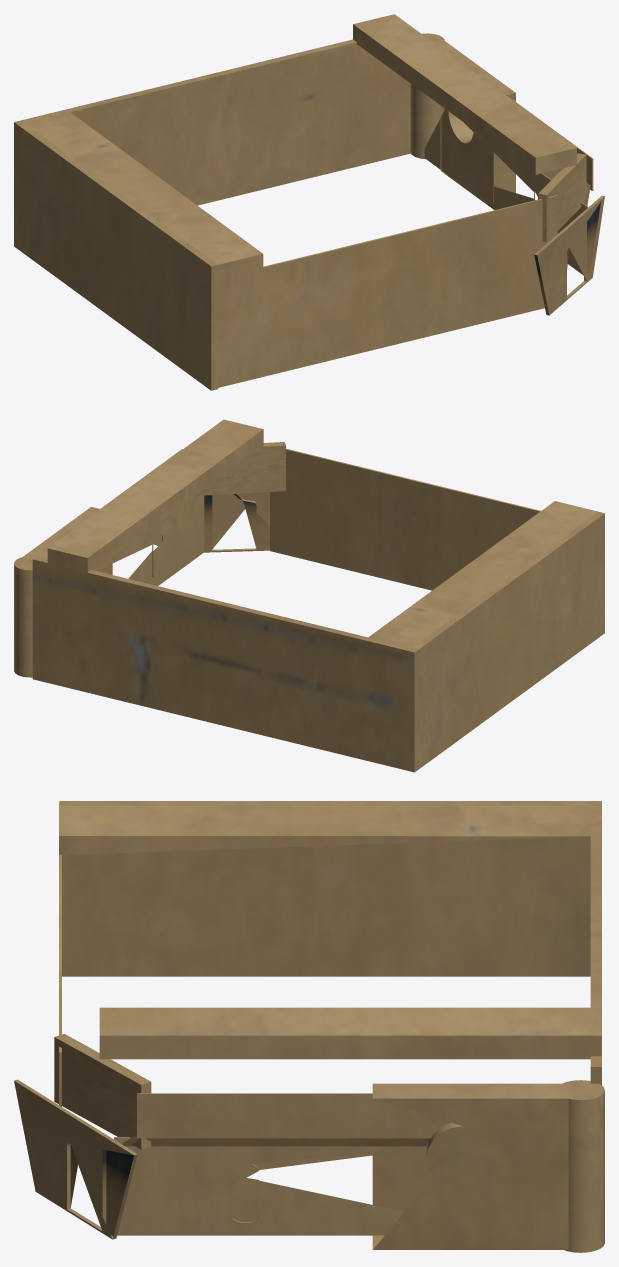
The model's file is wall.obj.
3 renders of one model, top to bottom at view 1: azimuth 30°, elevation 25°; view 2: azimuth 150°, elevation 25°; view 3: azimuth 270°, elevation 25°, orthographic. The views are drawn at different scales.
Parts seen in each view (by area): view 1: pasted__pCube37; view 2: pasted__pCube37; view 3: pasted__pCube37.
Boxes of the visible parts, bbox=[...] form: pasted__pCube37: bbox=[14, 14, 604, 390]; pasted__pCube37: bbox=[14, 419, 604, 772]; pasted__pCube37: bbox=[14, 801, 604, 1252].
Bounding box in the file's own units: 95.82 × 30.35 × 84.71.
2 materials, 2 textured.
